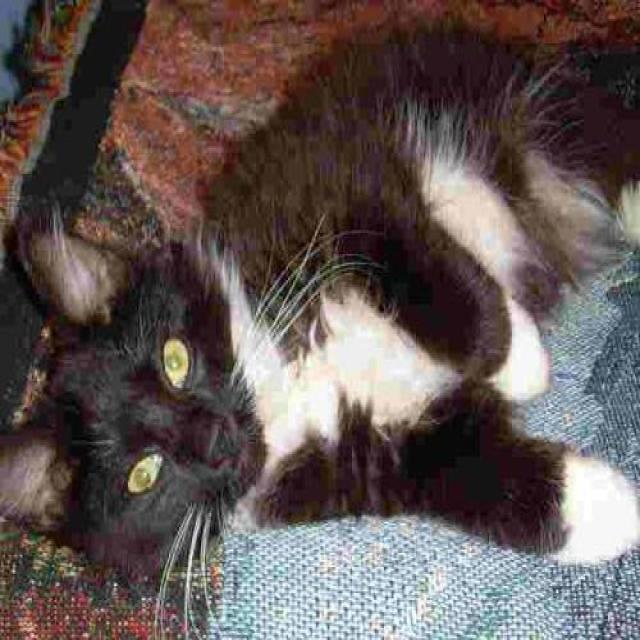cat: (7, 3, 640, 589)
